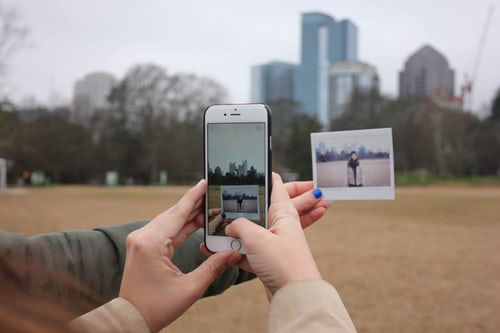phone: (201, 101, 271, 259)
